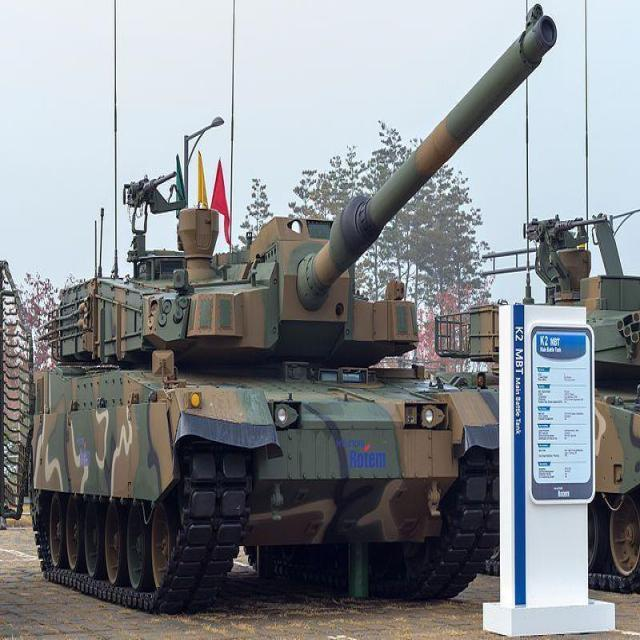MIL_MBT: (32, 190, 503, 617)
